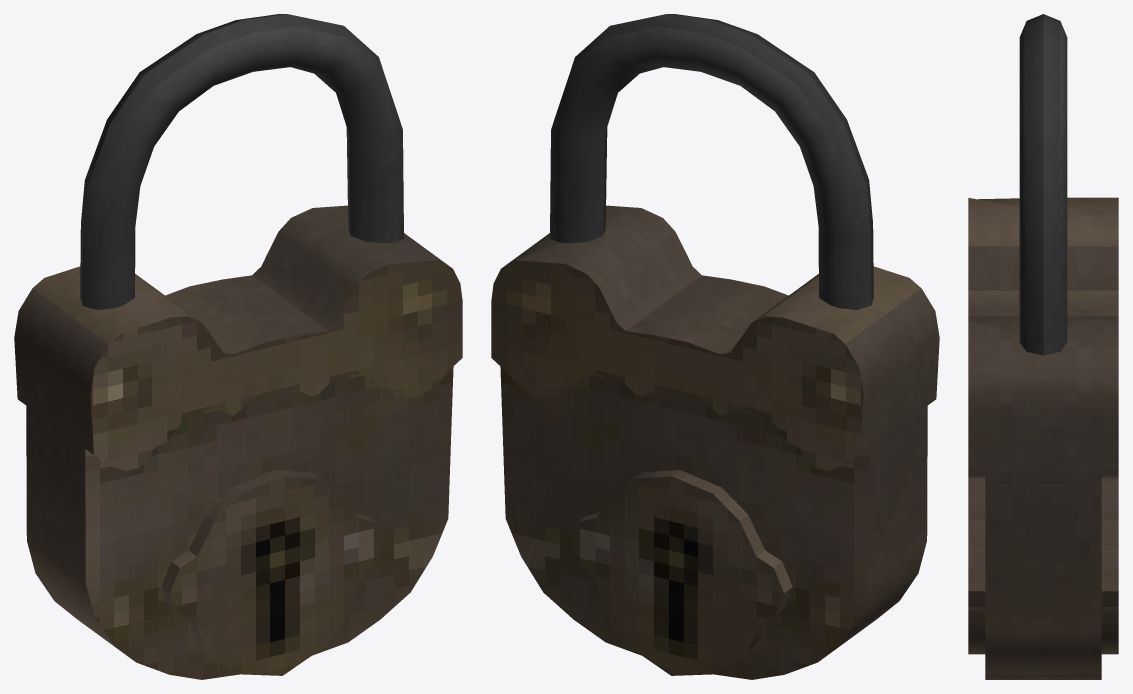
Rendered from padlock_1.glb.
The picture shows the model from 3 angles, left to right: view 1: azimuth 30°, elevation 25°; view 2: azimuth 150°, elevation 25°; view 3: azimuth 270°, elevation 25°; orthographic projection.
Parts seen in each view (by area): view 1: padlock_1; view 2: padlock_1; view 3: padlock_1.
Part boxes in pixels (box(x1,y1,x2,y2)): padlock_1: box(14, 14, 462, 679); padlock_1: box(491, 14, 939, 679); padlock_1: box(968, 14, 1118, 679).
Bounding box in the file's own units: 0.0619 × 0.0999 × 0.022.
Materials: 1 (1 with a texture image).
